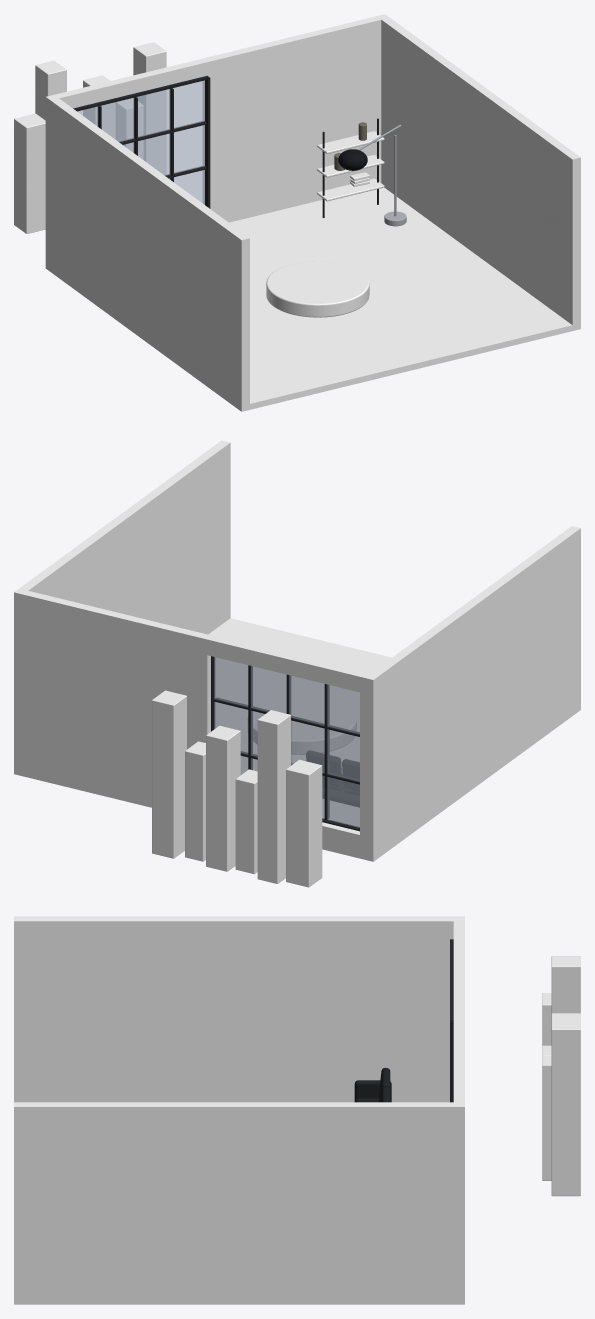
The model's file is loft-daylight-v2.glb.
3 views of the same model, one above another, from view 1: azimuth 30°, elevation 25°; view 2: azimuth 150°, elevation 25°; view 3: azimuth 270°, elevation 25° (orthographic). The views are drawn at different scales.
Parts seen in each view (by area): view 1: ARCH_Floor, ARCH_LeftWall, ARCH_RightWall, ARCH_Back_RightWall, ARCH_Window_Glass, STAGE_Pedestal, EXT_City_0, ARCH_Back_WindowTop, EXT_City_5, EXT_City_1, EXT_City_4, EXT_City_3 (+5 smaller); view 2: ARCH_LeftWall, ARCH_Back_RightWall, ARCH_RightWall, ARCH_Floor, ARCH_Window_Glass, EXT_City_5, EXT_City_1, EXT_City_0, EXT_City_3, STAGE_Pedestal, ARCH_Back_WindowTop, EXT_City_4 (+5 smaller); view 3: ARCH_RightWall, ARCH_LeftWall, EXT_City_5, ARCH_Floor, EXT_City_1, EXT_City_4, ARCH_Back_RightWall, ARCH_Back_WindowTop, PROP_Sofa_Arm_L, EXT_City_0.
Boxes of the visible parts, box(x1,y1,x2,y2) form: ARCH_Floor: box(45, 187, 580, 411); ARCH_LeftWall: box(45, 96, 249, 405); ARCH_RightWall: box(380, 14, 580, 325); ARCH_Back_RightWall: box(203, 15, 384, 222); ARCH_Window_Glass: box(77, 80, 204, 204); STAGE_Pedestal: box(266, 261, 369, 317); EXT_City_0: box(14, 113, 45, 233); ARCH_Back_WindowTop: box(59, 58, 207, 108); EXT_City_5: box(133, 42, 166, 174); EXT_City_1: box(35, 60, 66, 120); EXT_City_4: box(116, 98, 143, 159); EXT_City_3: box(83, 75, 115, 138); ARCH_LeftWall: box(364, 526, 580, 855); ARCH_Back_RightWall: box(18, 589, 211, 801); ARCH_RightWall: box(14, 440, 230, 769); ARCH_Floor: box(14, 618, 580, 861); ARCH_Window_Glass: box(214, 657, 359, 827); EXT_City_5: box(152, 690, 186, 858); EXT_City_1: box(257, 710, 290, 883); EXT_City_0: box(286, 759, 322, 887); EXT_City_3: box(206, 725, 240, 871); STAGE_Pedestal: box(253, 695, 356, 754); ARCH_Back_WindowTop: box(207, 635, 364, 692); EXT_City_4: box(185, 741, 205, 861); ARCH_RightWall: box(14, 1102, 464, 1297); ARCH_LeftWall: box(14, 916, 464, 1102); EXT_City_5: box(551, 1018, 580, 1196); ARCH_Floor: box(14, 1297, 464, 1304); EXT_City_1: box(551, 956, 580, 1013); EXT_City_4: box(542, 1055, 551, 1180); ARCH_Back_RightWall: box(453, 1004, 464, 1104); ARCH_Back_WindowTop: box(453, 923, 464, 1004); PROP_Sofa_Arm_L: box(354, 1080, 391, 1102); EXT_City_0: box(542, 993, 551, 1045).
Bounding box in the file's own units: 12 × 5.8 × 15.09.
